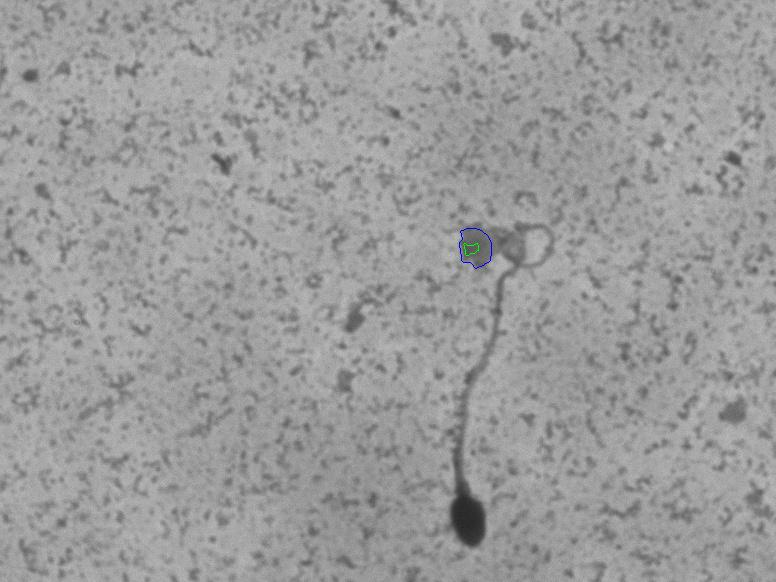Abnormal: (435, 211, 570, 558)
